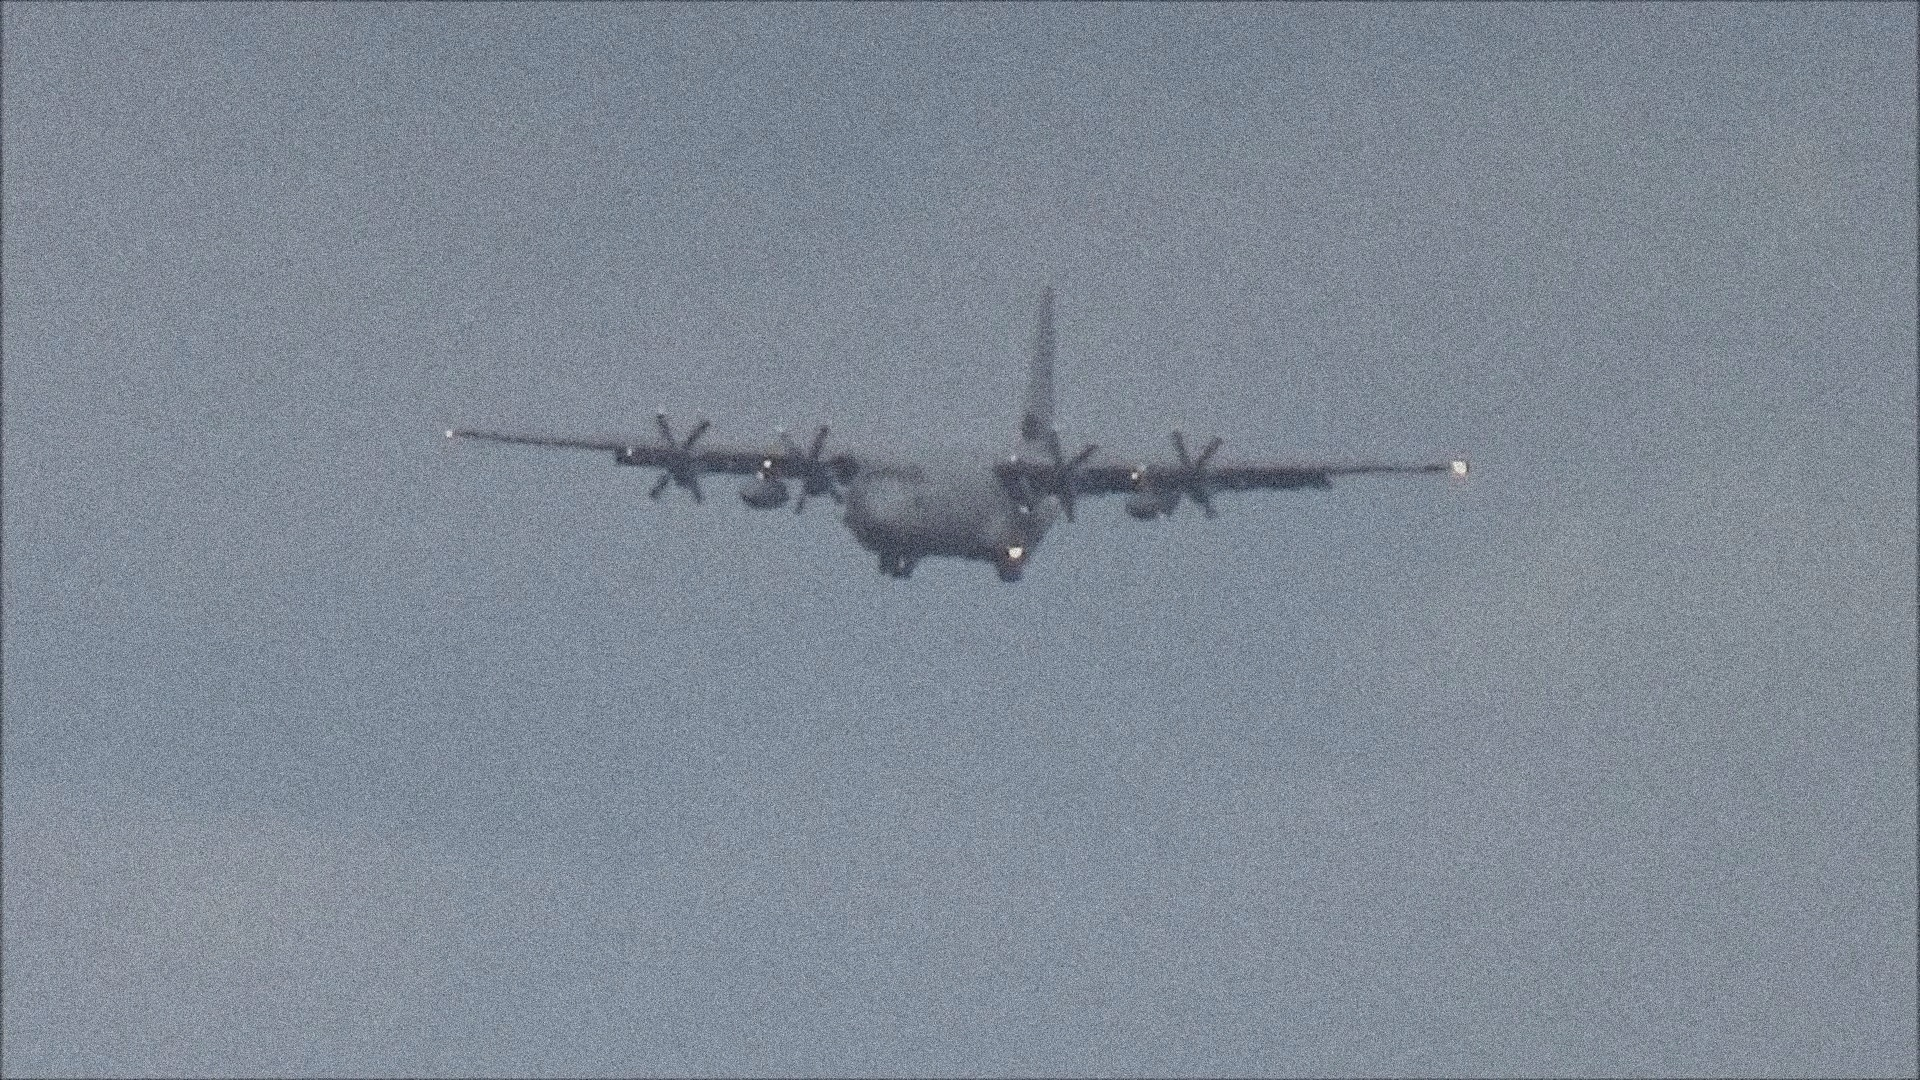Airplane: (440, 291, 1486, 582)
